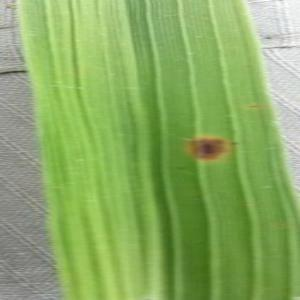0 BrownSpot: (177, 127, 234, 173), (244, 101, 262, 112), (229, 136, 241, 148)
